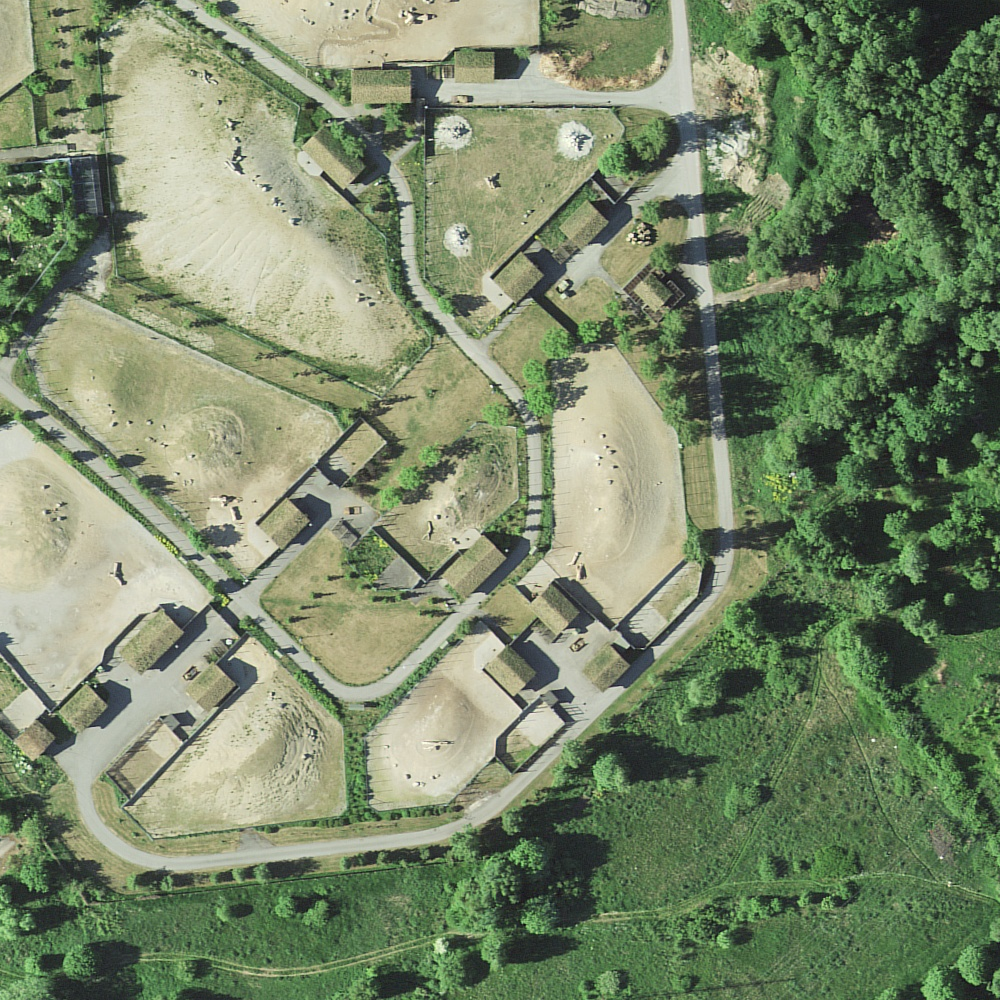building: (116, 608, 185, 676), (440, 536, 509, 600), (302, 126, 368, 192), (260, 496, 313, 552), (484, 645, 538, 699), (527, 585, 580, 637), (185, 661, 238, 713), (493, 254, 545, 305), (59, 682, 110, 734), (559, 200, 610, 250), (583, 644, 630, 693), (351, 70, 412, 105), (15, 721, 56, 763), (634, 275, 671, 312), (455, 53, 495, 84)
